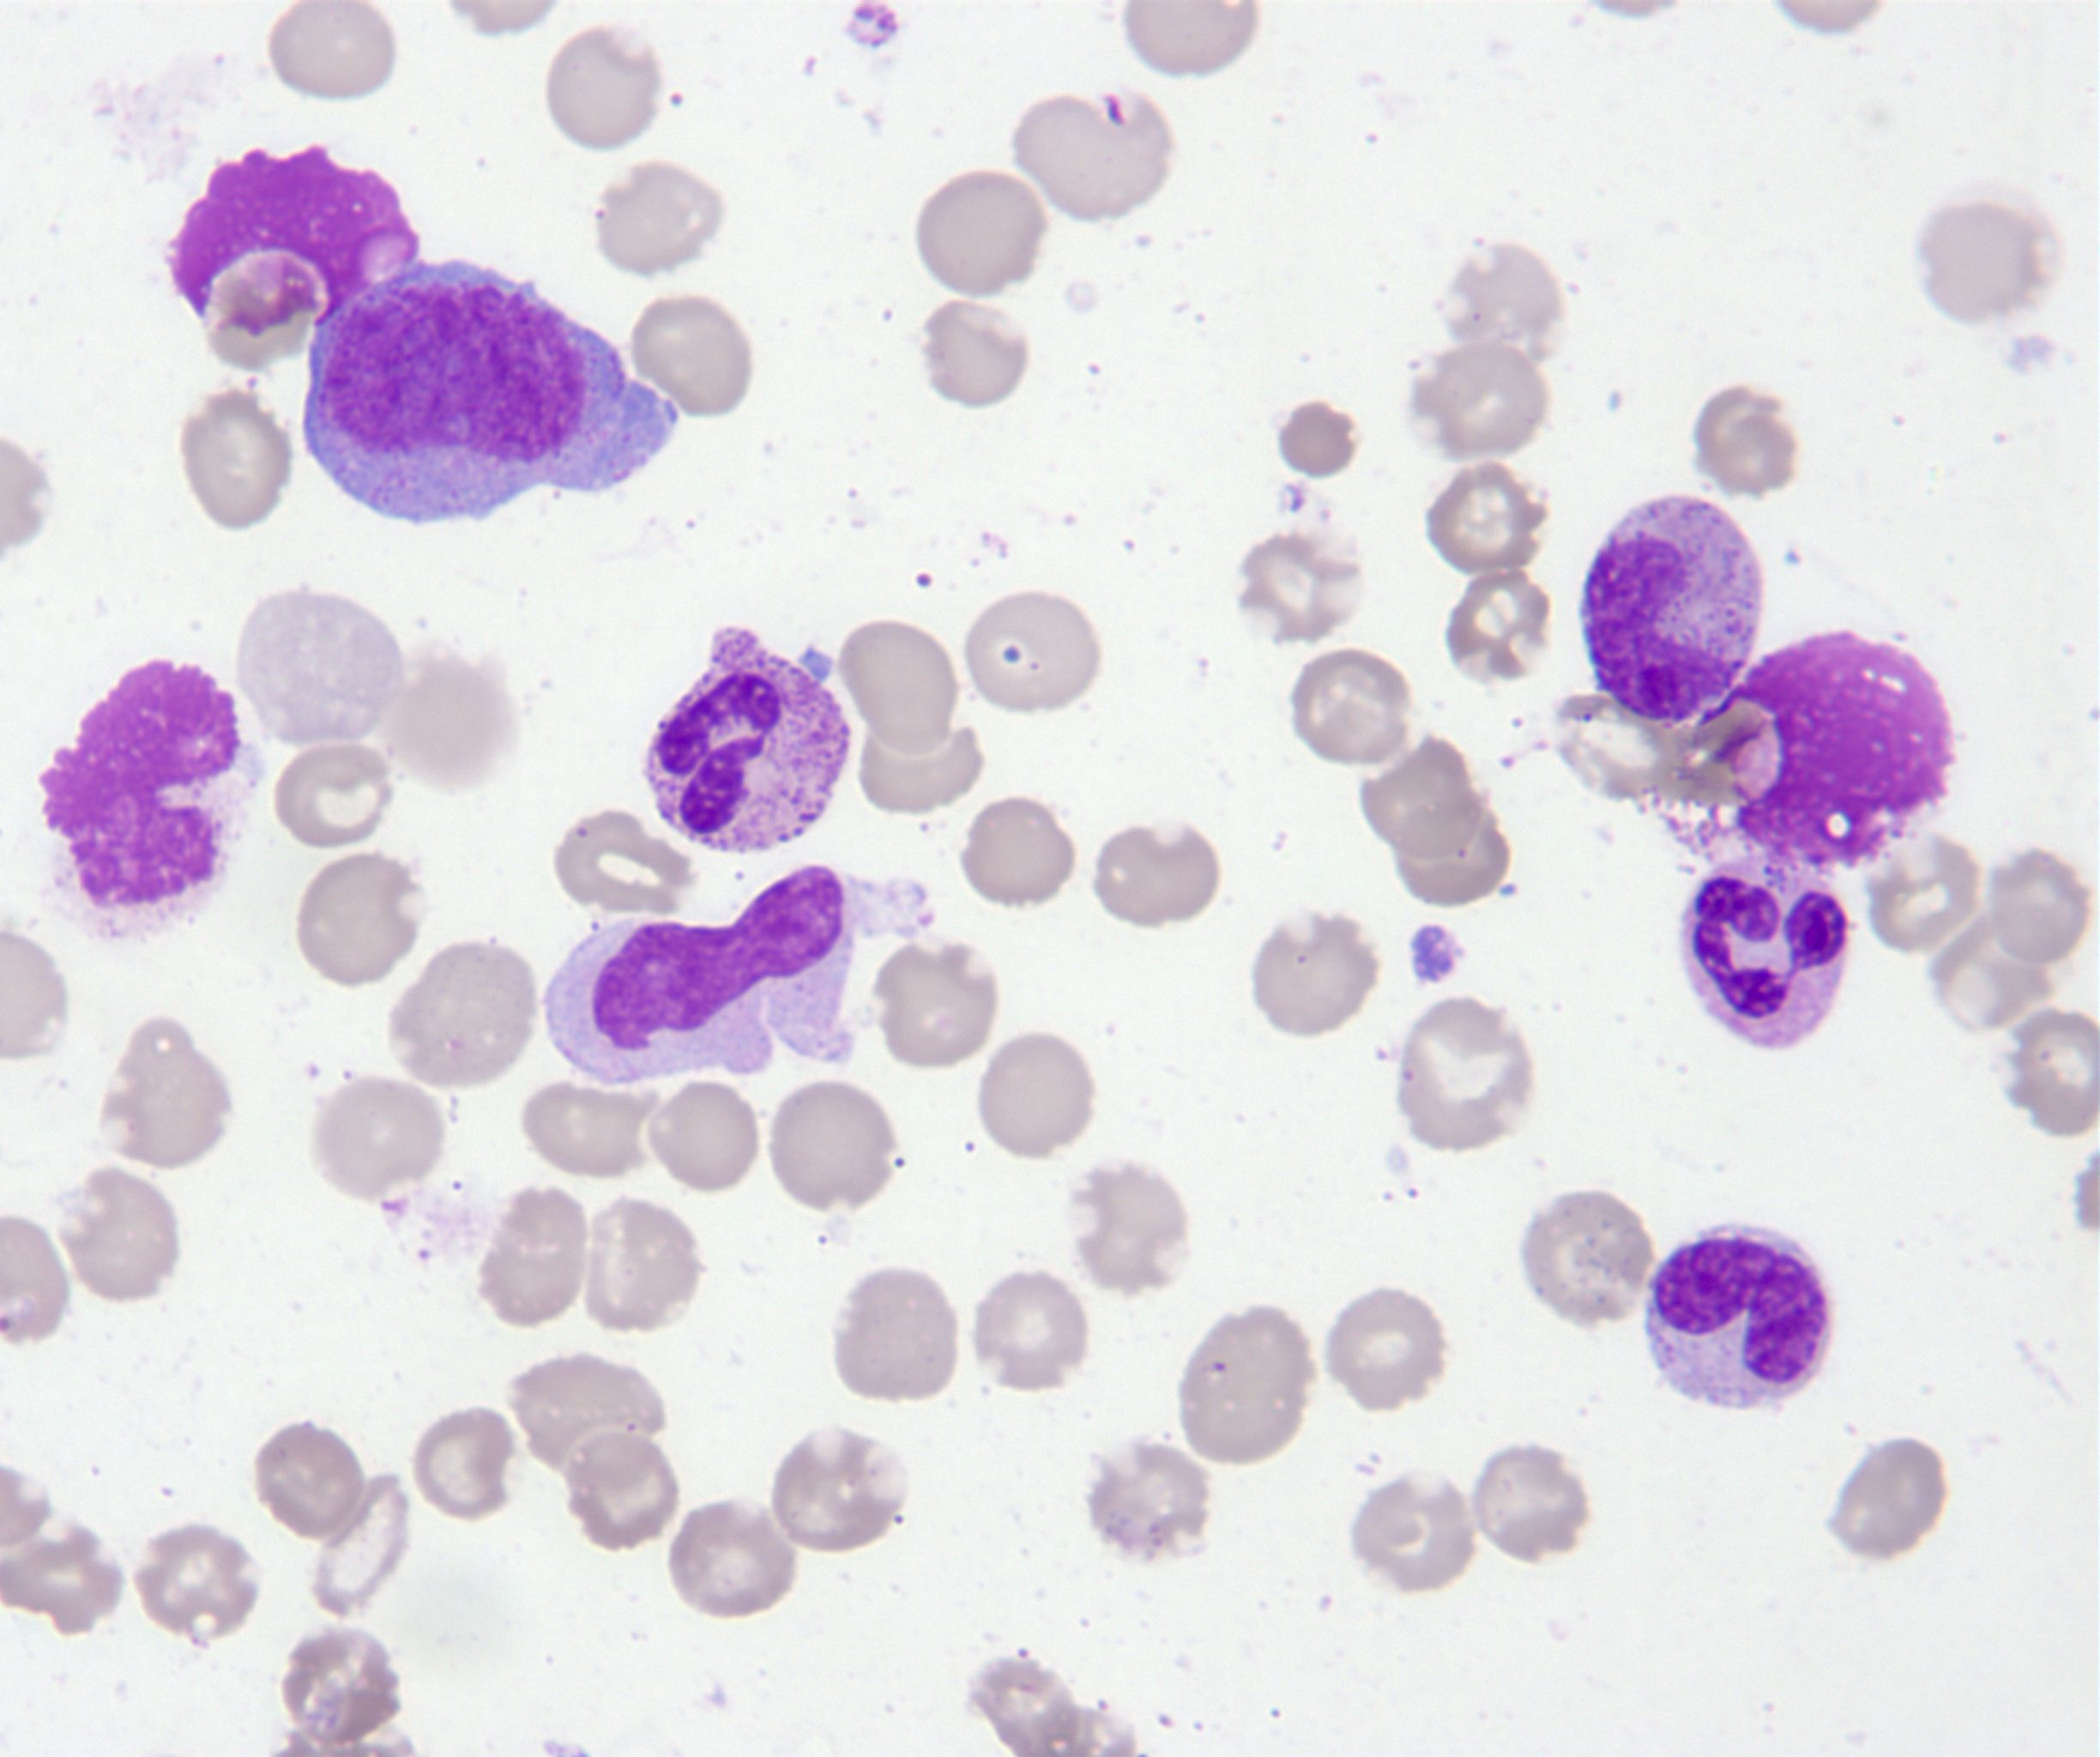2: (295, 255, 684, 529)
32: (542, 862, 863, 1087)
4: (1573, 487, 1767, 726), (1640, 1220, 1838, 1422)
6: (637, 618, 856, 862), (1674, 844, 1858, 1056)
x: (28, 647, 248, 921)
